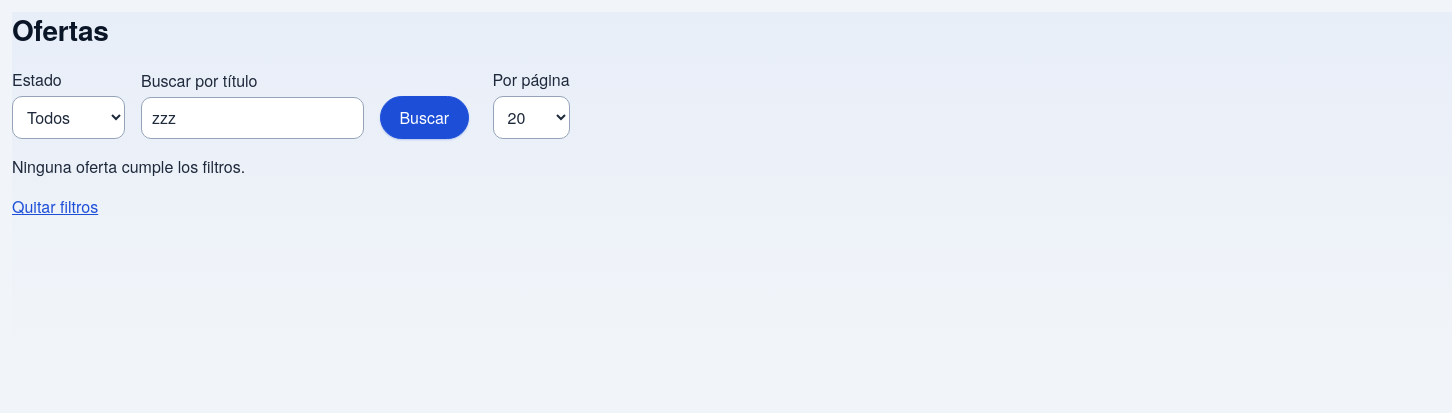
Test: JobListScreen · filtros, paginación y estados › vacío con filtros muestra «Ninguna oferta cumple los filtros.» y «Quitar filtros» lleva a /jobs
Expected: the text "Ninguna oferta cumple los filtros." is shown, [12, 155, 245, 178]
Expected: the link "Nueva oferta" is not shown
Click the link "Quitar filtros".
click(55, 207)  # box [12, 195, 98, 218]
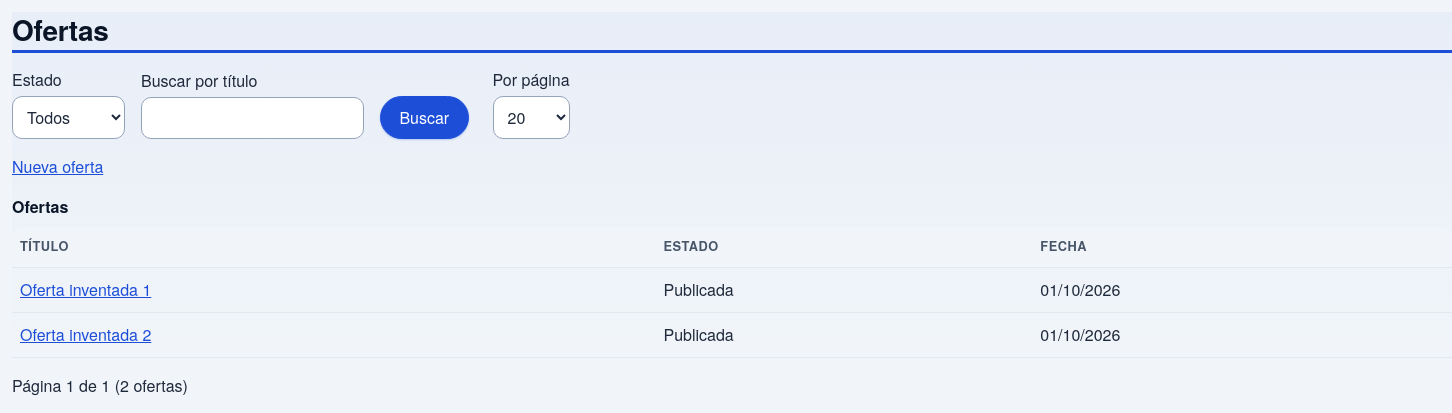
Expected: the table "Ofertas" is shown, [12, 195, 1451, 358]
Expected: the search field labelled "Buscar por título" is empty, [141, 97, 364, 139]
